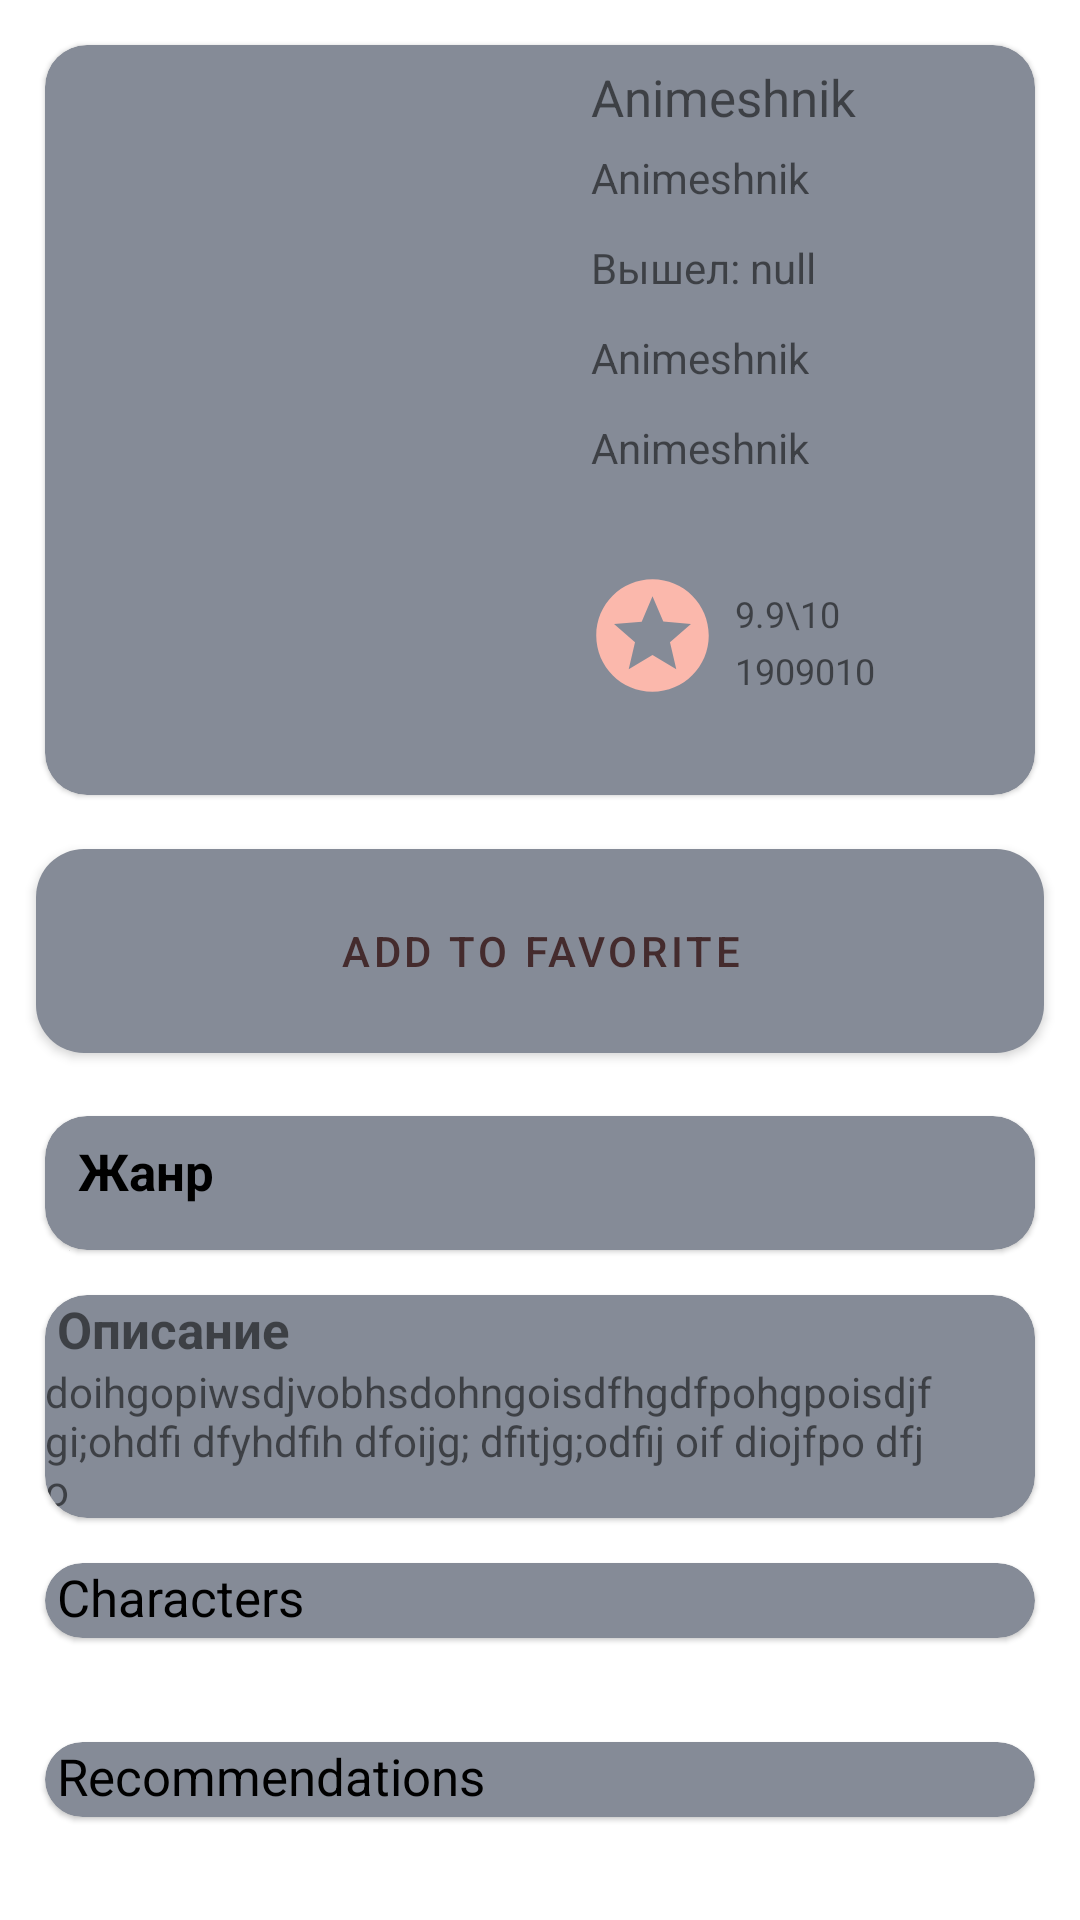

Icons on this 1080w x 1920h Android screen, each with the point to tap as point (x, y):
stars: point (652, 635)
